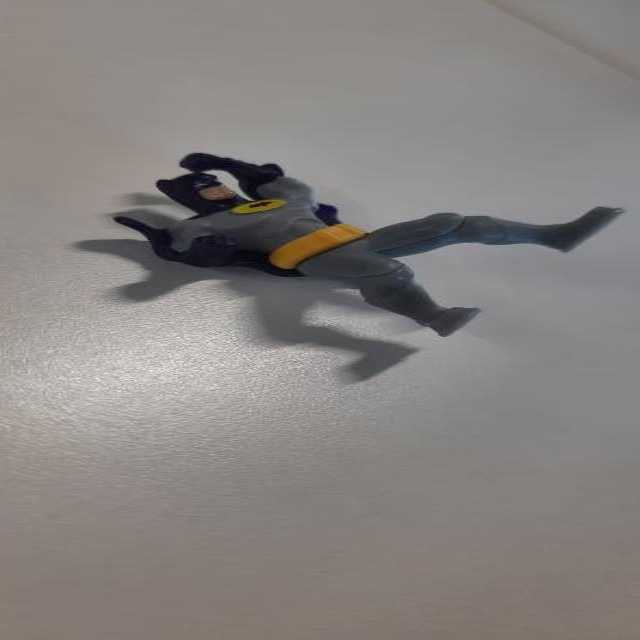Batman: (116, 154, 622, 334)
